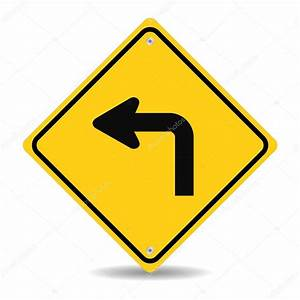left: (22, 19, 279, 272)
